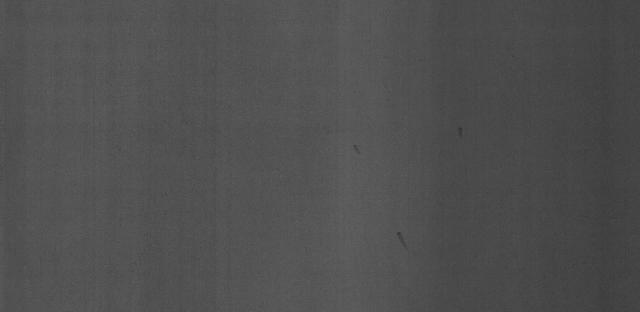water_spot: (394, 226, 427, 256), (450, 123, 481, 142), (345, 139, 369, 158)
